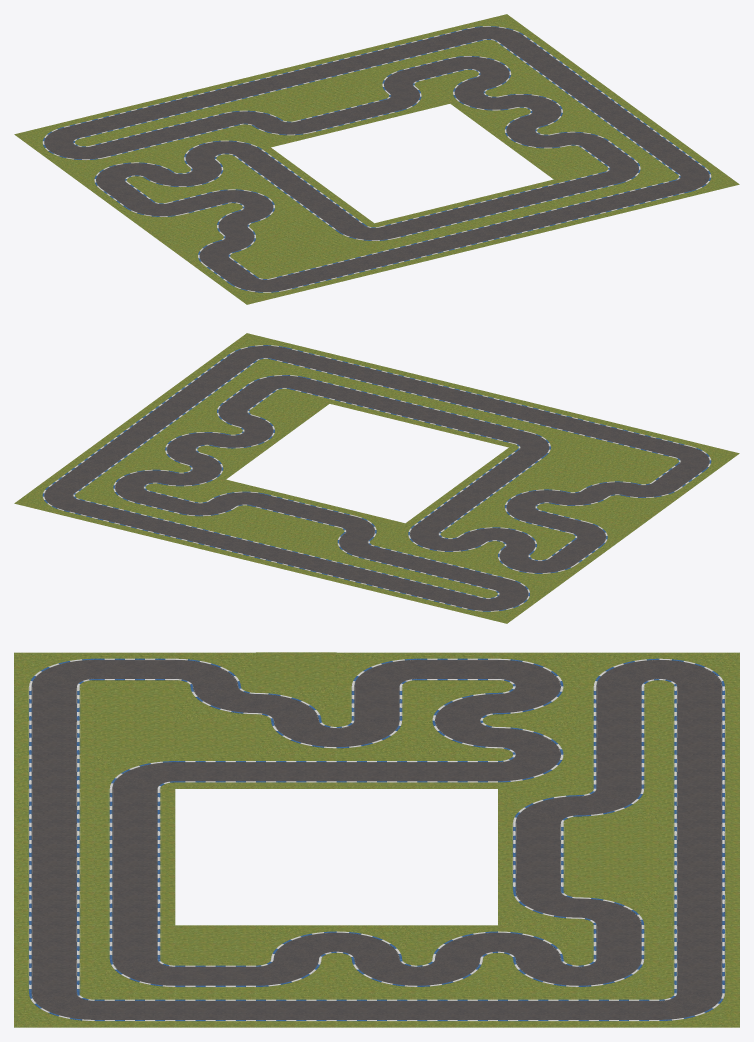
File: Track2.glb
3 views of the same model, one above another, from view 1: azimuth 30°, elevation 25°; view 2: azimuth 150°, elevation 25°; view 3: azimuth 270°, elevation 25° (orthographic). The views are drawn at different scales.
Parts seen in each view (by area): view 1: Forest_mod_01_straight.033, Forest_mod_01_straight.037, Desert_mod_03_flat, Desert_mod_03_flat.001, Desert_mod_03_flat.002, Desert_mod_03_flat.003, Forest_mod_01_straight.009, Forest_mod_01_straight.012, Forest_mod_01_straight.022, Forest_mod_01_straight.023, Forest_mod_01_straight.024, Forest_mod_01_straight.027 (+103 smaller); view 2: Desert_mod_03_flat.004, Forest_mod_01_straight.004, Forest_mod_01_straight.008, Desert_mod_03_flat.005, Desert_mod_03_flat.006, Forest_mod_01_straight.010, Forest_mod_01_straight.012, Forest_mod_01_straight.013, Forest_mod_01_straight.019, Forest_mod_01_straight.020, Forest_mod_01_straight.026, Forest_mod_01_straight.028 (+103 smaller); view 3: Forest_mod_01_straight.012, Forest_mod_01_straight.015, Forest_mod_01_straight.028, Desert_mod_03_flat.002, Desert_mod_03_flat.003, Forest_mod_01_straight.009, Forest_mod_01_straight.017, Forest_mod_01_straight.021, Forest_mod_01_straight.025, Forest_mod_01_straight.038, Forest_mod_01_straight.041, Forest_mod_01_straight.042 (+103 smaller).
Boxes of the visible parts, x1,y1,x2,y2 form: Forest_mod_01_straight.033: (238,69,308,98); Forest_mod_01_straight.037: (418,25,487,54); Desert_mod_03_flat: (143,218,213,247); Desert_mod_03_flat.001: (259,215,329,244); Desert_mod_03_flat.002: (240,245,309,274); Desert_mod_03_flat.003: (285,234,354,263); Forest_mod_01_straight.009: (195,256,265,285); Forest_mod_01_straight.012: (644,147,713,176); Forest_mod_01_straight.022: (226,147,296,177); Forest_mod_01_straight.023: (464,190,534,220); Forest_mod_01_straight.024: (509,179,579,209); Forest_mod_01_straight.027: (514,52,584,81); Desert_mod_03_flat.004: (259,393,329,422); Forest_mod_01_straight.004: (445,388,515,417); Forest_mod_01_straight.008: (266,344,335,373); Desert_mod_03_flat.005: (264,520,333,550); Desert_mod_03_flat.006: (219,509,289,539); Forest_mod_01_straight.010: (464,417,534,447); Forest_mod_01_straight.012: (195,352,265,381); Forest_mod_01_straight.013: (169,371,239,400); Forest_mod_01_straight.019: (483,447,553,477); Forest_mod_01_straight.020: (457,466,527,496); Forest_mod_01_straight.026: (214,382,284,411); Forest_mod_01_straight.028: (40,466,109,495); Forest_mod_01_straight.012: (94,993,175,1027); Forest_mod_01_straight.015: (336,993,417,1027); Forest_mod_01_straight.028: (578,993,659,1027); Desert_mod_03_flat.002: (94,686,175,720); Desert_mod_03_flat.003: (94,720,175,754); Forest_mod_01_straight.009: (94,652,175,686); Forest_mod_01_straight.017: (336,686,417,720); Forest_mod_01_straight.021: (336,754,417,788); Forest_mod_01_straight.025: (94,925,175,959); Forest_mod_01_straight.038: (578,925,659,959); Forest_mod_01_straight.041: (578,686,659,720); Forest_mod_01_straight.042: (578,720,659,754).
Bounding box in the file's own units: 176 × 0.03 × 144.
4 materials, 4 textured.
